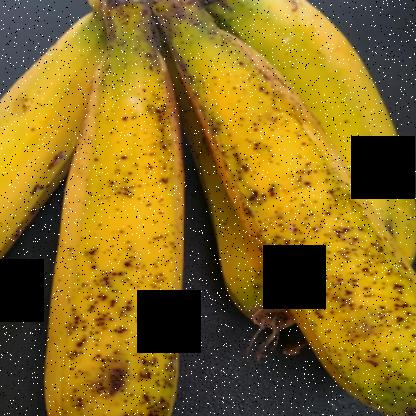ripe: (146, 26, 415, 415), (32, 47, 240, 415)
